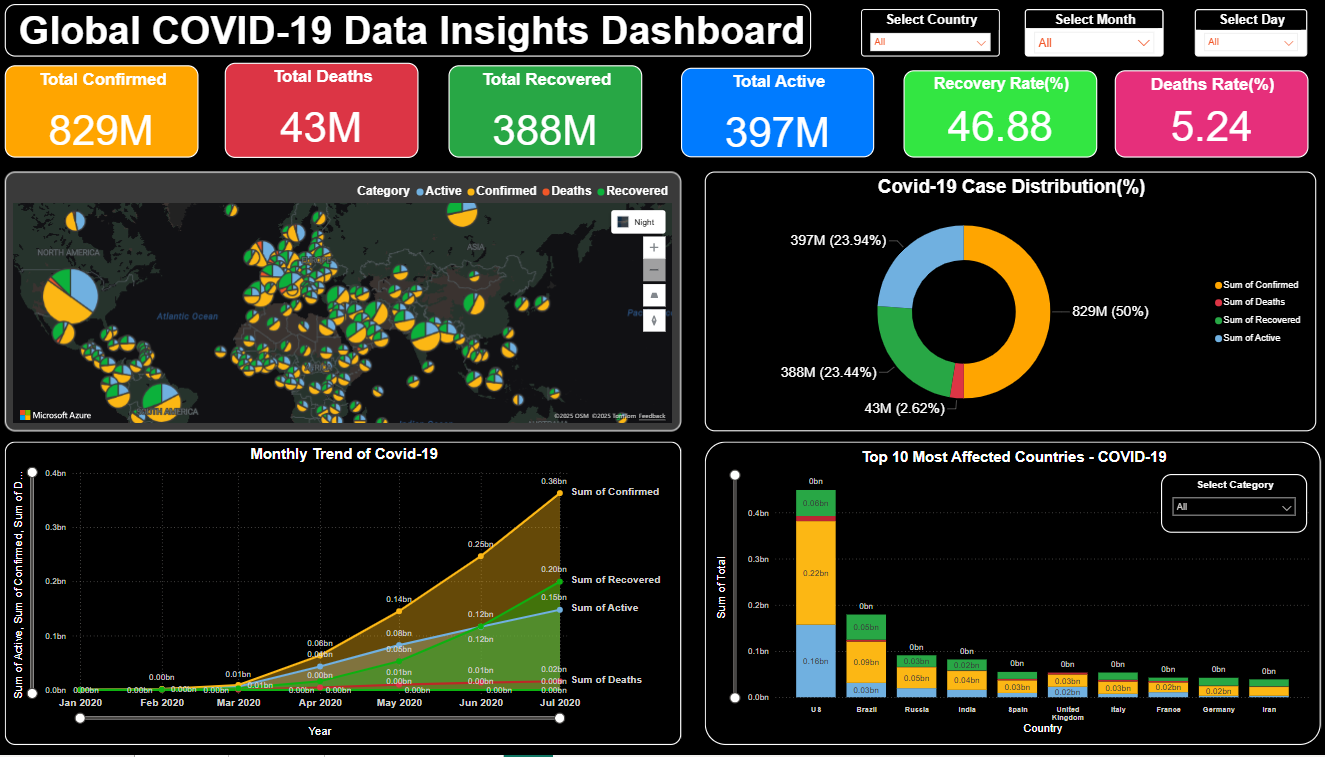

The dashboard page shown, as its layout file describes it:
{"tool":"powerbi","page":{"name":"Page 1","canvas":[1920,1080],"ordinal":0},"visuals":[{"type":"slicer","title":"Select Country","fields":{"Values":["samarth_csv.Country/Region"]},"box":[1242.9,14.3,198.2,67.9],"z":0},{"type":"slicer","title":" Select Month","fields":{"Values":["samarth_csv.MonthNumber"]},"box":[1476.8,14.3,198.2,67.9],"z":1000},{"type":"cardVisual","title":" Total Confirmed","fields":{"Data":["Sum(samarth_csv.Confirmed)"]},"box":[19.6,94.6,276.8,132.1],"z":2000},{"type":"cardVisual","title":"Total Deaths","fields":{"Data":["Sum(samarth_csv.Deaths)"]},"box":[333.9,91.1,276.8,135.7],"z":3000},{"type":"cardVisual","title":"Total Active","fields":{"Data":["Sum(samarth_csv.Active)"]},"box":[985.7,98.2,276,128],"z":4000},{"type":"cardVisual","title":"Total Recovered","fields":{"Data":["Sum(samarth_csv.Recovered)"]},"box":[653.6,94.6,276.8,132.1],"z":5000},{"type":"donutChart","title":"Covid-19 Case Distribution(%)","fields":{"Y":["Sum(samarth_csv.Confirmed)","Sum(samarth_csv.Deaths)","Sum(samarth_csv.Recovered)","Sum(samarth_csv.Total Active)"]},"box":[1019.6,246.4,873.2,371.4],"z":6000},{"type":"slicer","title":" Select Day","fields":{"Values":["samarth_csv.Date.Variation.Date Hierarchy.Day"]},"box":[1719.7,14.3,160.7,67.9],"z":7000},{"type":"card","title":"Recovery Rate(%)","fields":{"Values":["samarth_csv.Recovery Rate (%)"]},"box":[1303.6,101.8,276.8,125],"z":8000},{"type":"card","title":"Deaths Rate(%)","fields":{"Values":["samarth_csv.Deaths Rate (%)"]},"box":[1605.4,101.8,276.8,125],"z":9000},{"type":"columnChart","title":"Top 10 Most Affected Countries - COVID-19","fields":{"Category":["Top10_All_Categories.Country"],"Series":["Top10_All_Categories.Category"],"Y":["Sum(Top10_All_Categories.Total)"]},"box":[1019.6,632.1,880.4,433.9],"z":10000},{"type":"slicer","title":"Select Category","fields":{"Values":["Top10_All_Categories.Category"]},"box":[1671.4,678.6,208.9,83.9],"z":11000},{"type":"lineChart","title":"Monthly Trend of Covid-19","fields":{"Y":["Sum(samarth_csv.Active)","Sum(samarth_csv.Confirmed)","Sum(samarth_csv.Deaths)","Sum(samarth_csv.Recovered)","samarth_csv.Deaths Rate (%)","samarth_csv.Recovery Rate (%)"],"Category":["samarth_csv.Date.Variation.Date Hierarchy.Year","samarth_csv.Date.Variation.Date Hierarchy.Month"]},"box":[19.6,632.1,966.1,433.9],"z":12000},{"type":"azureMap","fields":{"Category":["Covid_Unpivot.Country"],"Size":["Sum(Covid_Unpivot.Total Cases)"],"Series":["Covid_Unpivot.Category"]},"box":[19.6,246.4,966.1,371.4],"z":13000},{"type":"textbox","title":"Global COVID-19 Data Insights Dashboard","box":[19.6,7.1,1151.8,75],"z":14000}]}

Visuals, with their boxes in screenshot pixels (x1, y1, x2, y2), scaled from the page's 1920x1080 canvas onto the 1325x757 screenshot:
"Select Country" slicer: {"left": 858, "top": 10, "right": 995, "bottom": 58}
" Select Month" slicer: {"left": 1019, "top": 10, "right": 1156, "bottom": 58}
" Total Confirmed" cardVisual: {"left": 14, "top": 66, "right": 205, "bottom": 159}
"Total Deaths" cardVisual: {"left": 230, "top": 64, "right": 421, "bottom": 159}
"Total Active" cardVisual: {"left": 680, "top": 69, "right": 871, "bottom": 159}
"Total Recovered" cardVisual: {"left": 451, "top": 66, "right": 642, "bottom": 159}
"Covid-19 Case Distribution(%)" donutChart: {"left": 704, "top": 173, "right": 1306, "bottom": 433}
" Select Day" slicer: {"left": 1187, "top": 10, "right": 1298, "bottom": 58}
"Recovery Rate(%)" card: {"left": 900, "top": 71, "right": 1091, "bottom": 159}
"Deaths Rate(%)" card: {"left": 1108, "top": 71, "right": 1299, "bottom": 159}
"Top 10 Most Affected Countries - COVID-19" columnChart: {"left": 704, "top": 443, "right": 1311, "bottom": 747}
"Select Category" slicer: {"left": 1153, "top": 476, "right": 1298, "bottom": 534}
"Monthly Trend of Covid-19" lineChart: {"left": 14, "top": 443, "right": 680, "bottom": 747}
azureMap - Covid_Unpivot.Country x Sum(Covid_Unpivot.Total Cases): {"left": 14, "top": 173, "right": 680, "bottom": 433}
"Global COVID-19 Data Insights Dashboard" textbox: {"left": 14, "top": 5, "right": 808, "bottom": 58}
